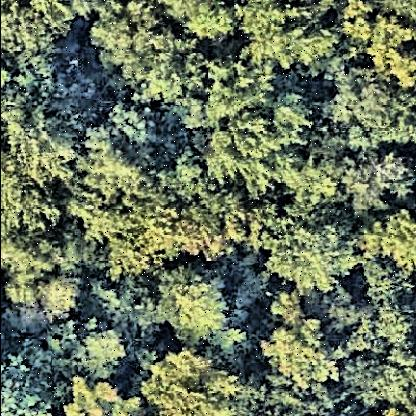tree-top: (209, 68, 311, 186), (337, 307, 416, 409), (325, 68, 416, 145), (156, 263, 232, 355), (1, 139, 72, 235), (271, 209, 355, 289), (242, 2, 338, 72), (144, 346, 240, 416), (94, 1, 172, 84), (261, 314, 341, 389), (1, 66, 73, 147), (77, 133, 155, 203), (338, 145, 412, 217), (1, 1, 75, 72), (61, 315, 130, 391), (1, 227, 61, 313), (170, 155, 231, 234), (370, 5, 416, 93), (234, 378, 338, 416), (360, 209, 416, 279), (272, 157, 332, 217), (1, 361, 55, 416), (64, 378, 141, 416), (170, 1, 242, 39), (110, 93, 158, 147), (36, 265, 82, 321)
